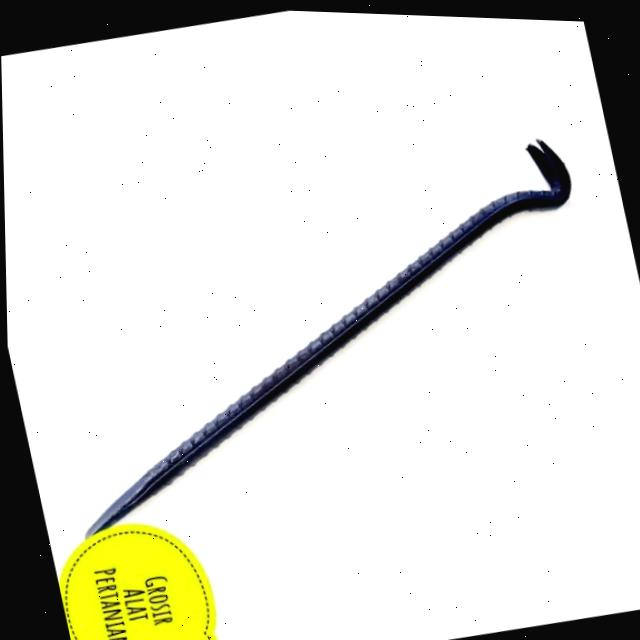crow bar: (75, 124, 584, 549)
